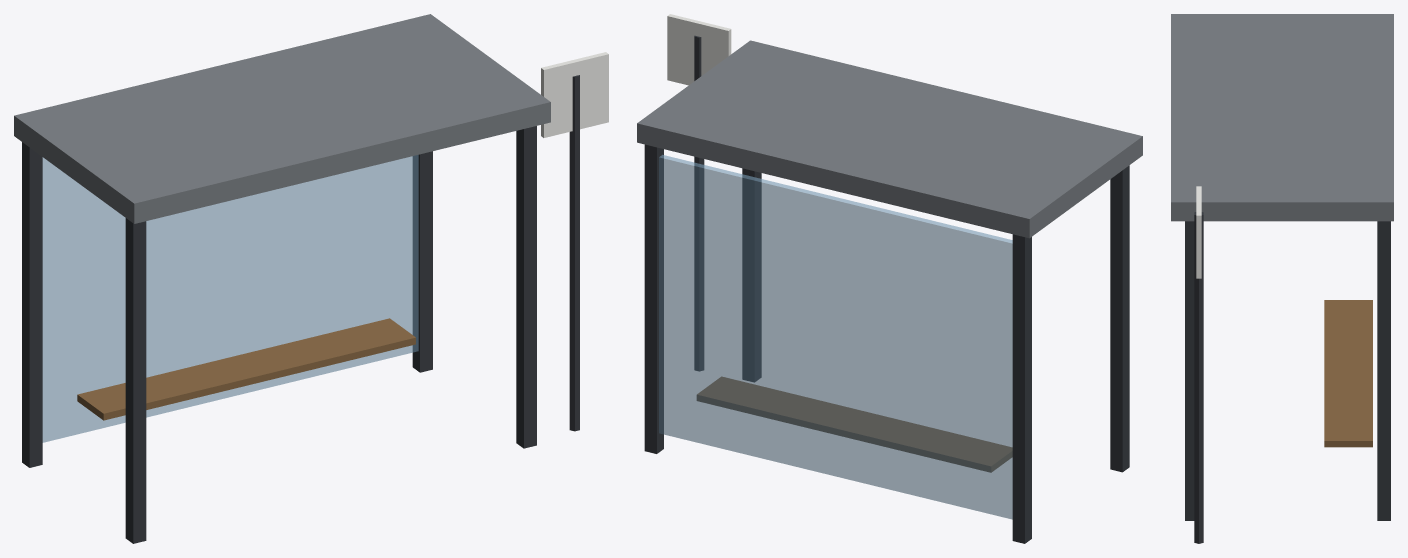
The model's file is bus-stop.L1.74995db0.glb.
The picture shows the model from 3 angles, left to right: view 1: azimuth 30°, elevation 25°; view 2: azimuth 150°, elevation 25°; view 3: azimuth 270°, elevation 25°; orthographic projection. The views are drawn at different scales.
Visible parts, largest first — view 1: A-FURNITURE-BUS-STOP; view 2: A-FURNITURE-BUS-STOP; view 3: A-FURNITURE-BUS-STOP.
Part boxes in pixels (x1=…): A-FURNITURE-BUS-STOP: x1=14, y1=14, x2=608, y2=543; A-FURNITURE-BUS-STOP: x1=637, y1=14, x2=1142, y2=543; A-FURNITURE-BUS-STOP: x1=1171, y1=14, x2=1393, y2=543.
Size of the model in its own units: 3.75 by 2.7 by 1.6.
